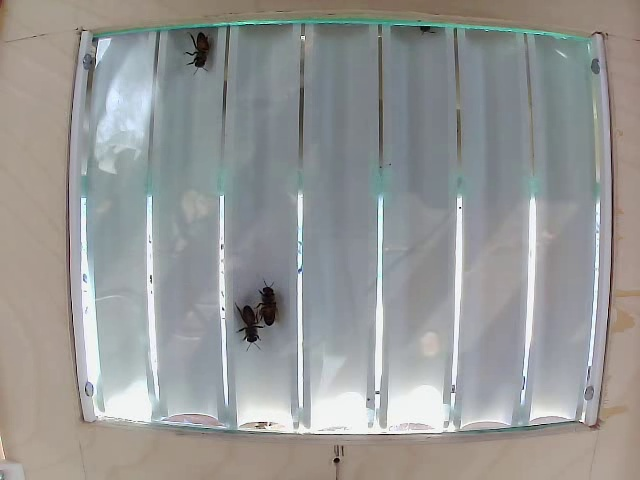bee: (247, 281, 284, 331), (234, 302, 270, 353), (192, 38, 225, 84)
